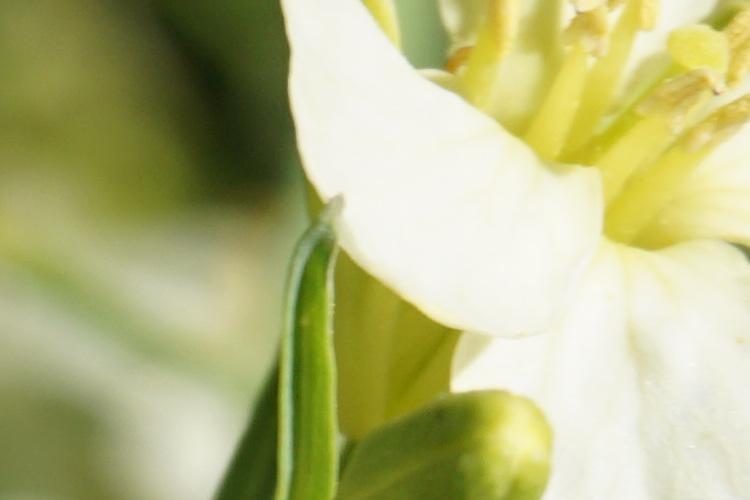bud: (331, 378, 553, 497)
white: (280, 24, 744, 497)
